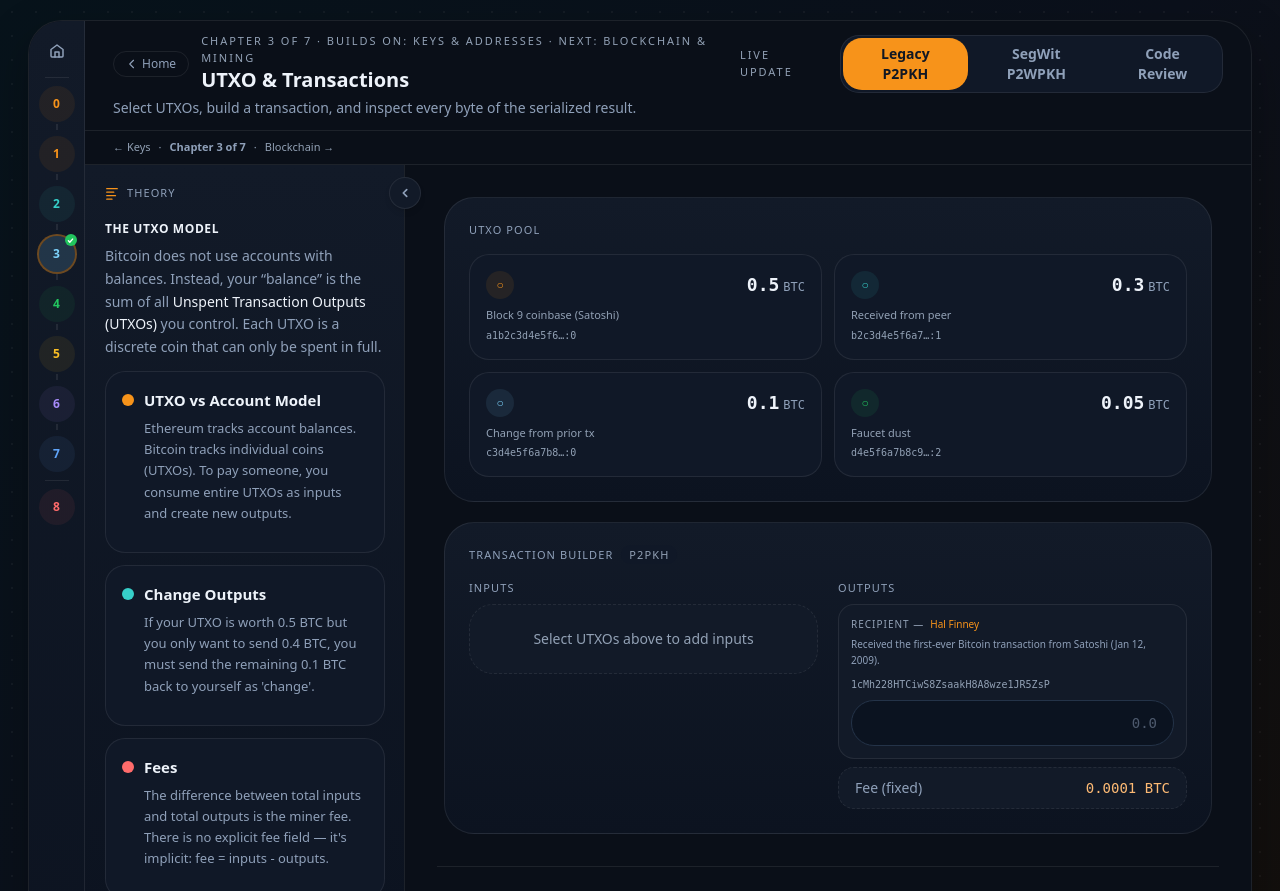
UTXOBuilder › AC: TXID panel appears with intermediate hash values
Click the checkbox named "0.5 BTC" at (763, 284), box [469,254,822,360]
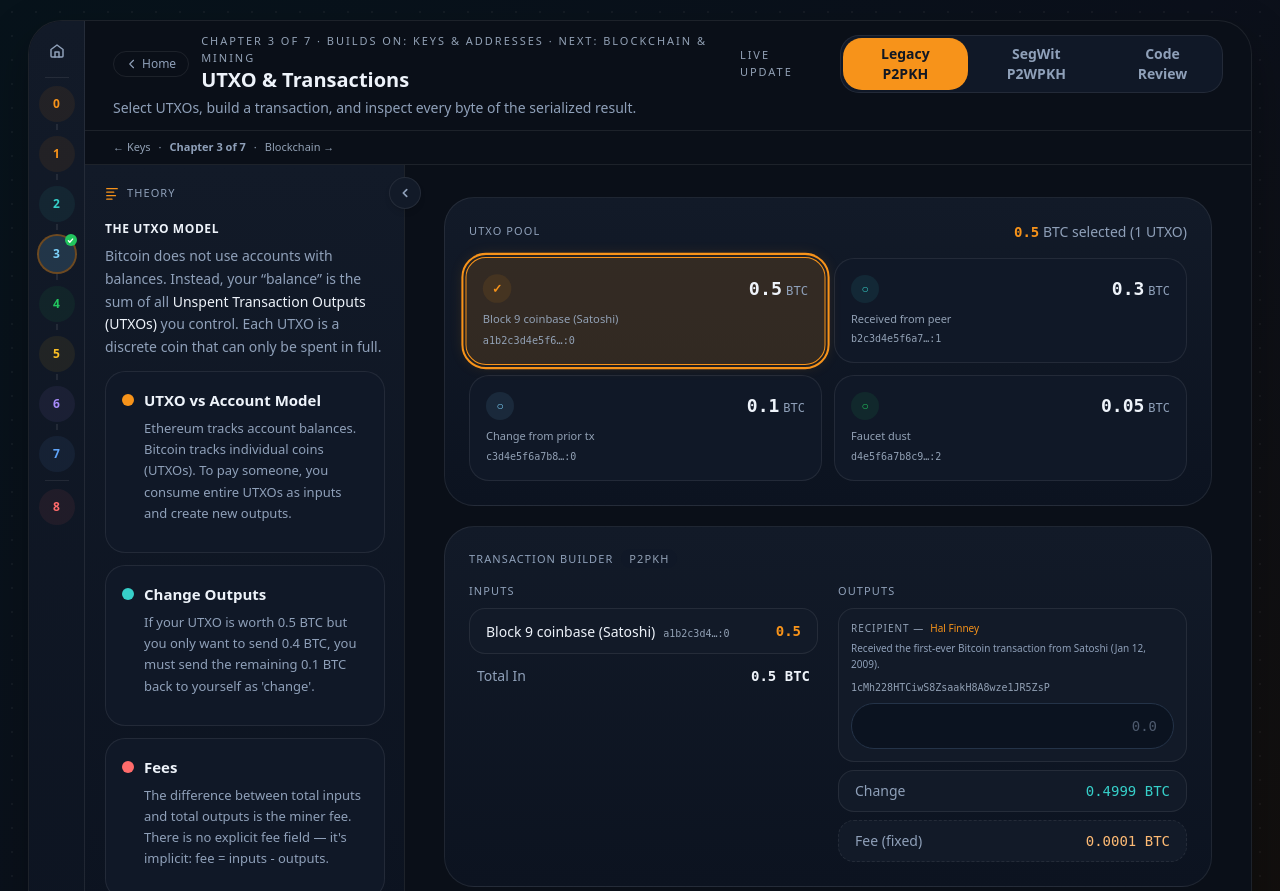
Type "0.3" into the field named "recipient amount" at (1012, 726), box [851,703,1174,749]
(page scrolled)
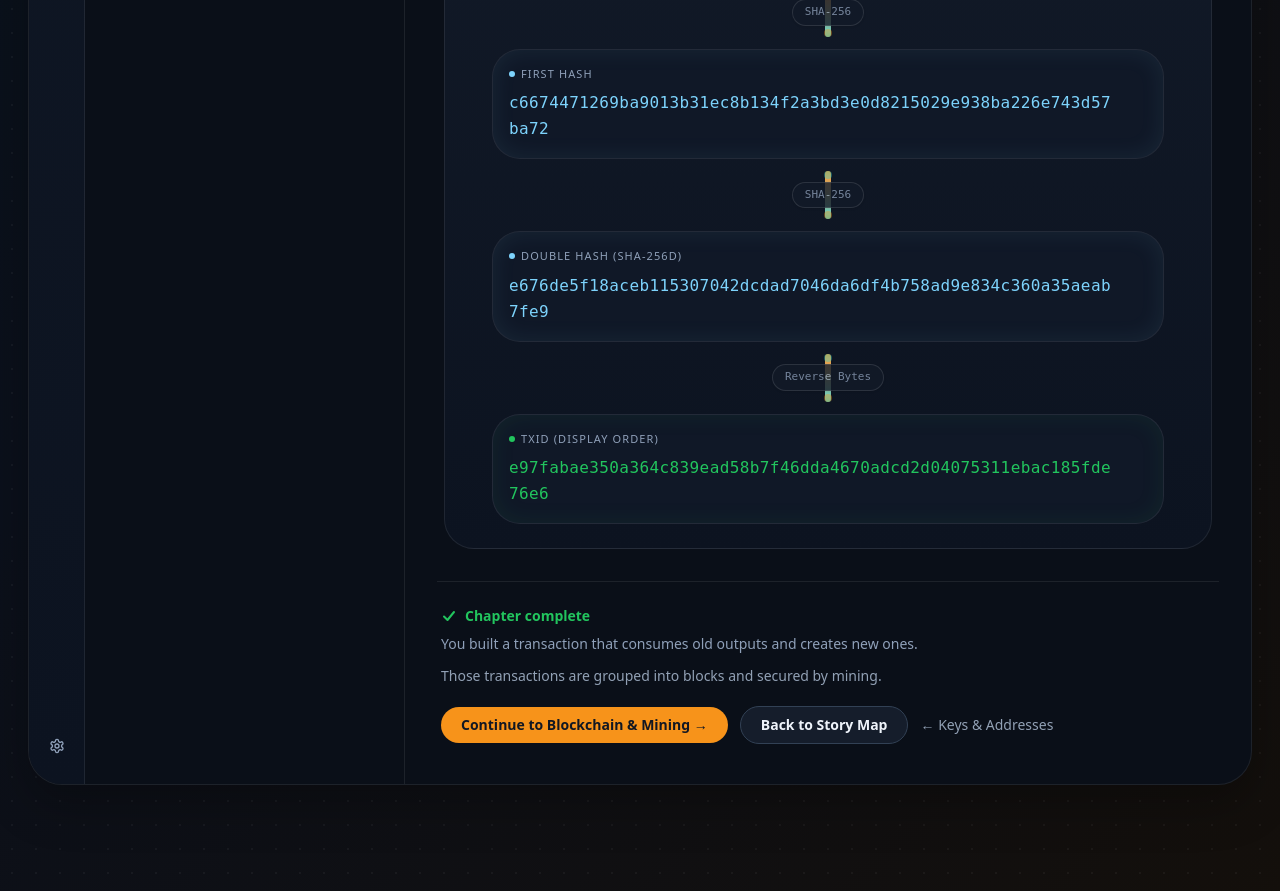
Expected: the text "First Hash" is shown, [509,66,593,80]
Expected: the text "Double Hash (SHA-256d)" is shown, [509,248,682,263]
Expected: the text "TXID (display order)" is shown, [509,430,659,446]
